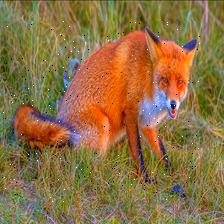fox: (1, 22, 202, 204)
